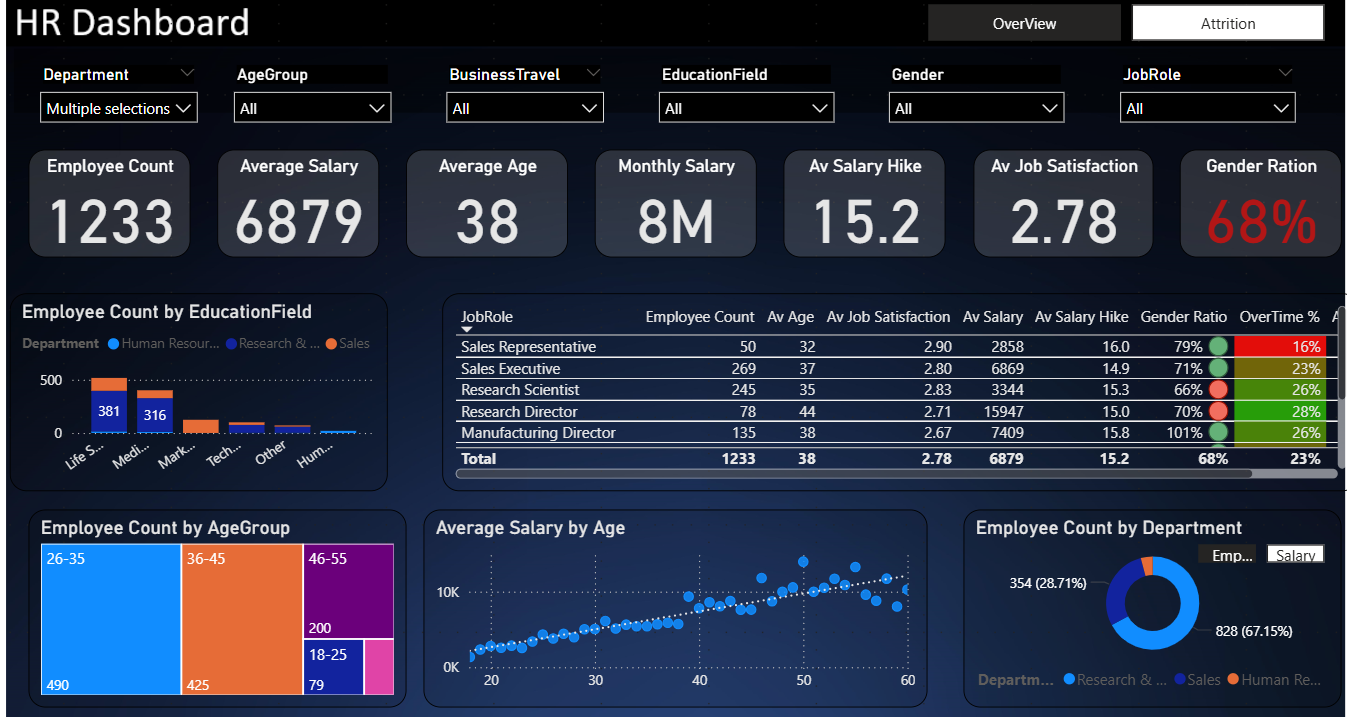

The page's visual inventory and layout, read from the dashboard file:
{"tool":"powerbi","page":{"name":"OverView","canvas":[1280,720],"ordinal":0},"visuals":[{"type":"slicer","fields":{"Values":["Department.Department"]},"box":[64,64,160,64],"z":0},{"type":"card","title":"Employee Count","fields":{"Values":["HR_Analytics.Employee Count"]},"box":[64,144.5,144,96],"z":1000},{"type":"slicer","fields":{"Values":["HR_Analytics.Gender"]},"box":[819.2,64,176,64],"z":2000},{"type":"slicer","fields":{"Values":["HR_Analytics.JobRole"]},"box":[1024,64,176,64],"z":3000},{"type":"slicer","fields":{"Values":["HR_Analytics.EducationField"]},"box":[614.4,64,176,64],"z":4000},{"type":"slicer","fields":{"Values":["HR_Analytics.BusinessTravel"]},"box":[425.6,64,160,64],"z":5000},{"type":"slicer","fields":{"Values":["HR_Analytics.AgeGroup"]},"box":[236.8,64,160,64],"z":6000},{"type":"card","title":" Monthly Salary","fields":{"Values":["HR_Analytics.Monthly Salary"]},"box":[568,144.5,144,96],"z":7000},{"type":"card","title":"Average Age","fields":{"Values":["HR_Analytics.Average Age"]},"box":[400,144.5,144,96],"z":8000},{"type":"card","title":"Av Salary Hike","fields":{"Values":["HR_Analytics.Average Salary Hike"]},"box":[736,144.5,144,96],"z":9000},{"type":"card","title":"Av Job Satisfaction ","fields":{"Values":["HR_Analytics.Average Job Satisfaction"]},"box":[904,144.5,160,96],"z":10000},{"type":"card","title":"Average Salary","fields":{"Values":["HR_Analytics.Average Salary"]},"box":[232,144.5,144,96],"z":11000},{"type":"card","title":"Gender Ration","fields":{"Values":["HR_Analytics.Gender Ratio"]},"box":[1088,144.5,144,96],"z":12000},{"type":"columnChart","title":"Employee Count by EducationField ","fields":{"Y":["HR_Analytics.Employee Count"],"Category":["HR_Analytics.EducationField"],"Series":["HR_Analytics.Department"]},"box":[48,272,336,176],"z":13000},{"type":"treemap","fields":{"Values":["HR_Analytics.Employee Count"],"Group":["HR_Analytics.AgeGroup"]},"box":[64,464,336,176],"z":14000},{"type":"tableEx","fields":{"Values":["HR_Analytics.JobRole","HR_Analytics.Employee Count","HR_Analytics.Average Age","HR_Analytics.Average Job Satisfaction","HR_Analytics.Average Salary","HR_Analytics.Average Salary Hike","HR_Analytics.Gender Ratio","HR_Analytics.OverTime %","HR_Analytics.Average Years"]},"box":[432,272,816,176],"z":16000},{"type":"scatterChart","fields":{"Y":["HR_Analytics.Average Salary"],"X":["HR_Analytics.Age"]},"box":[416,464,448,176],"z":17000},{"type":"pageNavigator","box":[864,16,352,32],"z":18000},{"type":"donutChart","fields":{"Category":["Department.Department"],"Y":["HR_Analytics.Monthly Salary"]},"box":[880,464,352,176],"z":19000},{"type":"bookmarkNavigator","box":[1104,496,112,16],"z":20000},{"type":"actionButton","box":[0,0,100,40],"z":21000},{"type":"actionButton","box":[0,0,100,40],"z":22000}]}

Visuals, with their boxes on the page's 1280x720 design canvas (x1, y1, x2, y2). These are canvas units, not pixel positions in the 1347x717 screenshot, which may show the page scaled, cropped or inside an application window:
slicer - Department.Department: [left=64, top=64, right=224, bottom=128]
"Employee Count" card: [left=64, top=144, right=208, bottom=240]
slicer - HR_Analytics.Gender: [left=819, top=64, right=995, bottom=128]
slicer - HR_Analytics.JobRole: [left=1024, top=64, right=1200, bottom=128]
slicer - HR_Analytics.EducationField: [left=614, top=64, right=790, bottom=128]
slicer - HR_Analytics.BusinessTravel: [left=426, top=64, right=586, bottom=128]
slicer - HR_Analytics.AgeGroup: [left=237, top=64, right=397, bottom=128]
" Monthly Salary" card: [left=568, top=144, right=712, bottom=240]
"Average Age" card: [left=400, top=144, right=544, bottom=240]
"Av Salary Hike" card: [left=736, top=144, right=880, bottom=240]
"Av Job Satisfaction " card: [left=904, top=144, right=1064, bottom=240]
"Average Salary" card: [left=232, top=144, right=376, bottom=240]
"Gender Ration" card: [left=1088, top=144, right=1232, bottom=240]
"Employee Count by EducationField " columnChart: [left=48, top=272, right=384, bottom=448]
treemap - HR_Analytics.Employee Count x HR_Analytics.AgeGroup: [left=64, top=464, right=400, bottom=640]
tableEx - HR_Analytics.JobRole x HR_Analytics.Employee Count: [left=432, top=272, right=1248, bottom=448]
scatterChart - HR_Analytics.Average Salary x HR_Analytics.Age: [left=416, top=464, right=864, bottom=640]
pageNavigator: [left=864, top=16, right=1216, bottom=48]
donutChart - Department.Department x HR_Analytics.Monthly Salary: [left=880, top=464, right=1232, bottom=640]
bookmarkNavigator: [left=1104, top=496, right=1216, bottom=512]
actionButton: [left=0, top=0, right=100, bottom=40]
actionButton: [left=0, top=0, right=100, bottom=40]
